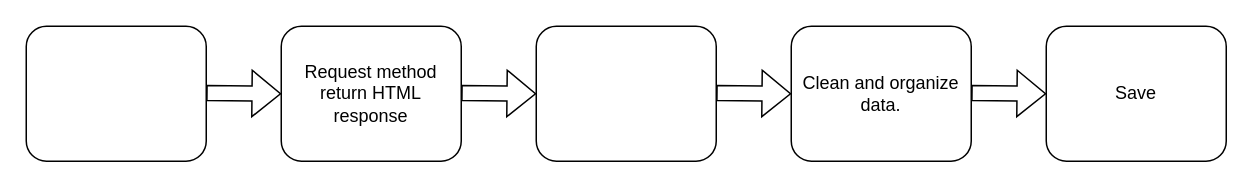
The diagram is 1253 pixels wide and 188 high, and some of its shapes have lost their labels. Each missing label, with the centre of its shape:
"Generate a dataframe with data from json" belongs at (x=625, y=93).
"Get Info from Wikipedia using request method" belongs at (x=115, y=93).
